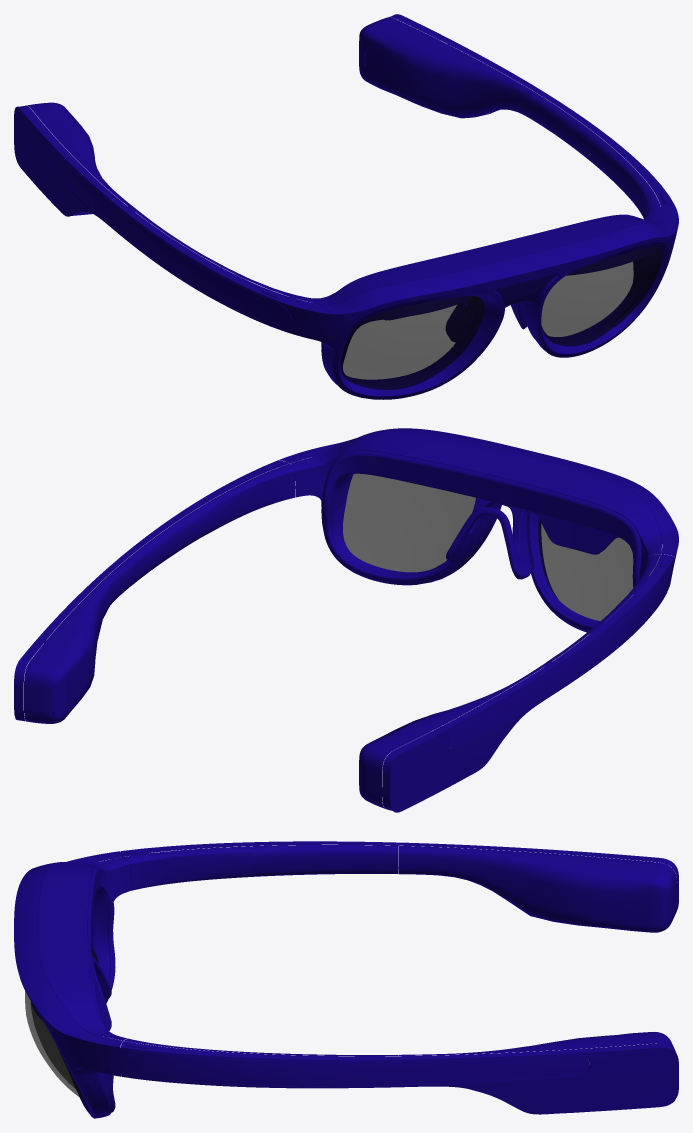
File: glass_blender.gltf
3 renders of one model, top to bottom at view 1: azimuth 30°, elevation 25°; view 2: azimuth 150°, elevation 25°; view 3: azimuth 270°, elevation 25°, orthographic.
Visible parts, largest first — view 1: NONE_13, NONE_2, NONE_17, NONE_18, NONE_9, NONE_8, NONE_10, NONE_11, NONE, NONE_16, NONE_14; view 2: NONE_13, NONE_15, NONE_18, NONE_9, NONE_2, NONE_17, NONE_8, NONE_10, NONE_11, NONE_16, NONE, NONE_4 (+1 smaller); view 3: NONE_13, NONE_11, NONE, NONE_7, NONE_12, NONE_9, NONE_2, NONE_15, NONE_18, NONE_16, NONE_10.
Boxes of the visible parts, x1=… form: NONE_13: x1=279, y1=205, x2=678, y2=399; NONE_2: x1=359, y1=17, x2=551, y2=128; NONE_17: x1=341, y1=296, x2=484, y2=389; NONE_18: x1=541, y1=247, x2=661, y2=346; NONE_9: x1=14, y1=105, x2=289, y2=330; NONE_8: x1=44, y1=142, x2=292, y2=329; NONE_10: x1=544, y1=103, x2=660, y2=219; NONE_11: x1=28, y1=102, x2=134, y2=211; NONE: x1=389, y1=14, x2=674, y2=220; NONE_16: x1=446, y1=296, x2=527, y2=342; NONE_14: x1=495, y1=274, x2=556, y2=307; NONE_13: x1=279, y1=428, x2=678, y2=632; NONE_15: x1=322, y1=450, x2=641, y2=631; NONE_18: x1=343, y1=473, x2=475, y2=572; NONE_9: x1=382, y1=554, x2=674, y2=812; NONE_2: x1=24, y1=558, x2=135, y2=723; NONE_17: x1=538, y1=519, x2=660, y2=620; NONE_8: x1=448, y1=557, x2=675, y2=747; NONE_10: x1=128, y1=463, x2=295, y2=583; NONE_11: x1=359, y1=661, x2=551, y2=808; NONE_16: x1=446, y1=498, x2=531, y2=579; NONE: x1=14, y1=460, x2=288, y2=721; NONE_4: x1=38, y1=682, x2=67, y2=713; NONE_13: x1=14, y1=851, x2=131, y2=1118; NONE_11: x1=398, y1=846, x2=676, y2=932; NONE: x1=121, y1=1041, x2=678, y2=1114; NONE_7: x1=108, y1=1048, x2=589, y2=1086; NONE_12: x1=124, y1=845, x2=398, y2=890; NONE_9: x1=121, y1=841, x2=678, y2=911; NONE_2: x1=398, y1=1032, x2=674, y2=1055; NONE_15: x1=87, y1=867, x2=115, y2=1110; NONE_18: x1=25, y1=991, x2=85, y2=1101; NONE_16: x1=92, y1=957, x2=111, y2=1035; NONE_10: x1=124, y1=1038, x2=398, y2=1056.
Bounding box in the file's own units: 0.1714 × 0.0499 × 0.2194.
